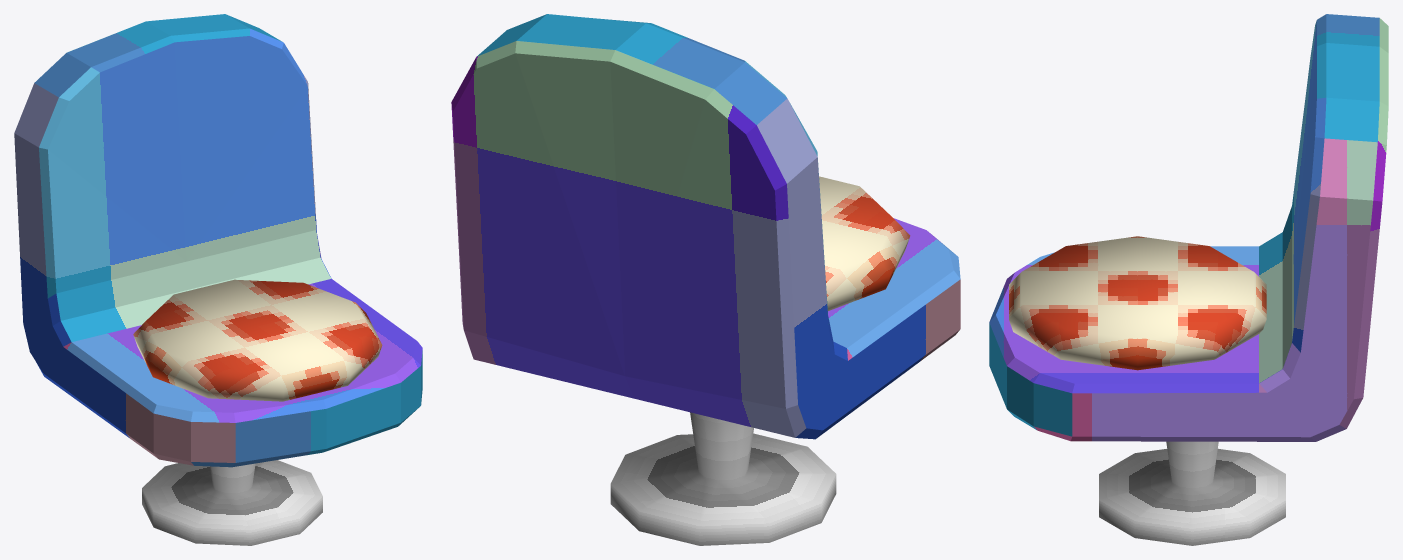
File: rmk_dot_chairS_jwl.dae
3 renders of one model, left to right at view 1: azimuth 30°, elevation 25°; view 2: azimuth 150°, elevation 25°; view 3: azimuth 270°, elevation 25°, orthographic. The views are drawn at different scales.
Parts seen in each view (by area): view 1: rmk_dot_chairS_jwl; view 2: rmk_dot_chairS_jwl; view 3: rmk_dot_chairS_jwl.
Boxes of the visible parts, x1,y1,x2,y2 form: rmk_dot_chairS_jwl: (14,14,422,545); rmk_dot_chairS_jwl: (451,14,960,545); rmk_dot_chairS_jwl: (989,14,1388,545).
Bounding box in the file's own units: 24 × 36.4 × 28.55.
3 materials, 3 textured.
